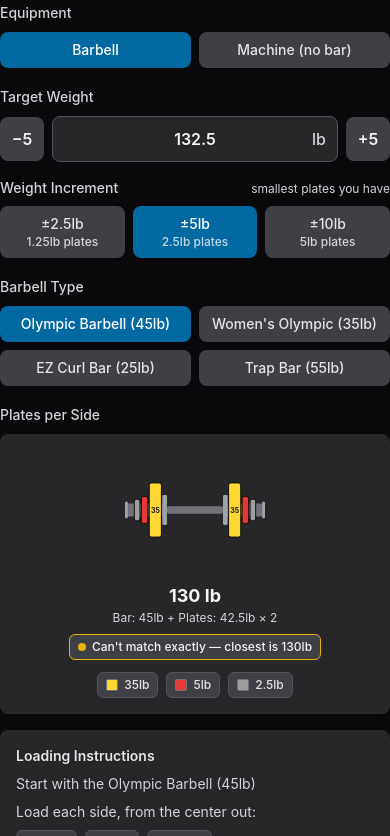
Scenario: PlateCalculator weight increment setting › selecting 1.25lb plates makes a 202.5lb target exactly loadable
Replace the text in the field with placeholder "Enter weight in lb" with "202.5" at (195, 139), box [52,116,338,162]
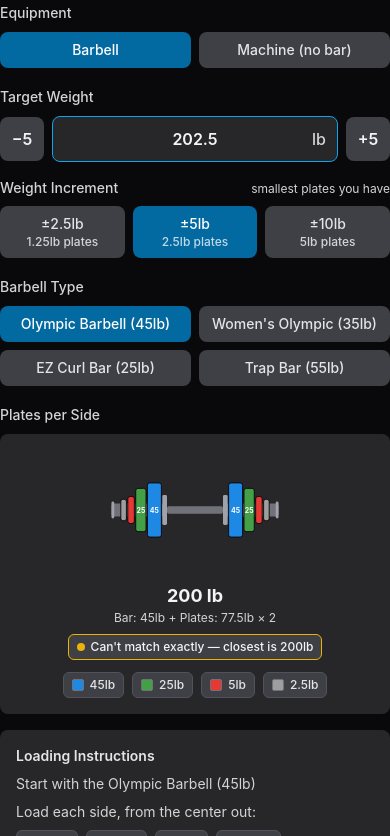
Check: the element with test id "plate-calc-closest" is shown, box [68,634,322,660]
Click the button "±2.5lb 1.25lb plates" at (62, 232), box [0,206,125,258]
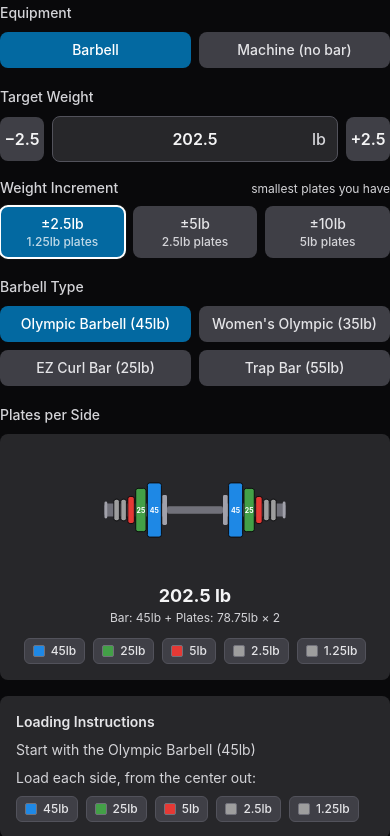
Check: the element with test id "plate-calc-closest" is gone
Check: the text "202.5 lb" is shown, box [159,585,231,606]
Check: the text "Bar: 45lb + Plates: 78.75lb × 2" is shown, box [110,610,280,625]
